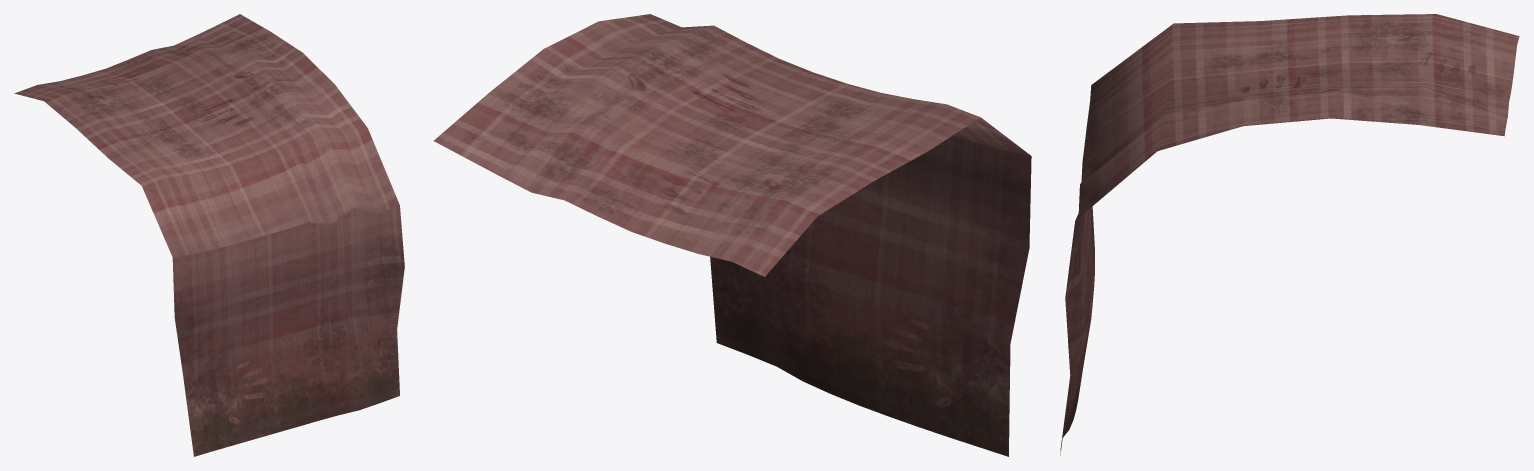
3 views of the same model, side by side, from view 1: azimuth 30°, elevation 25°; view 2: azimuth 150°, elevation 25°; view 3: azimuth 270°, elevation 25° (orthographic). The views are drawn at different scales.
Visible parts, largest first — view 1: Blanket_Blanket_0; view 2: Blanket_Blanket_0; view 3: Blanket_Blanket_0.
Part boxes in pixels (left/top/right/bottom): Blanket_Blanket_0: left=14, top=14, right=404, bottom=456; Blanket_Blanket_0: left=434, top=14, right=1031, bottom=456; Blanket_Blanket_0: left=1060, top=14, right=1519, bottom=455.
Size of the model in its own units: 2.17 by 2.6 by 2.94.
Materials: 1 (1 with a texture image).
